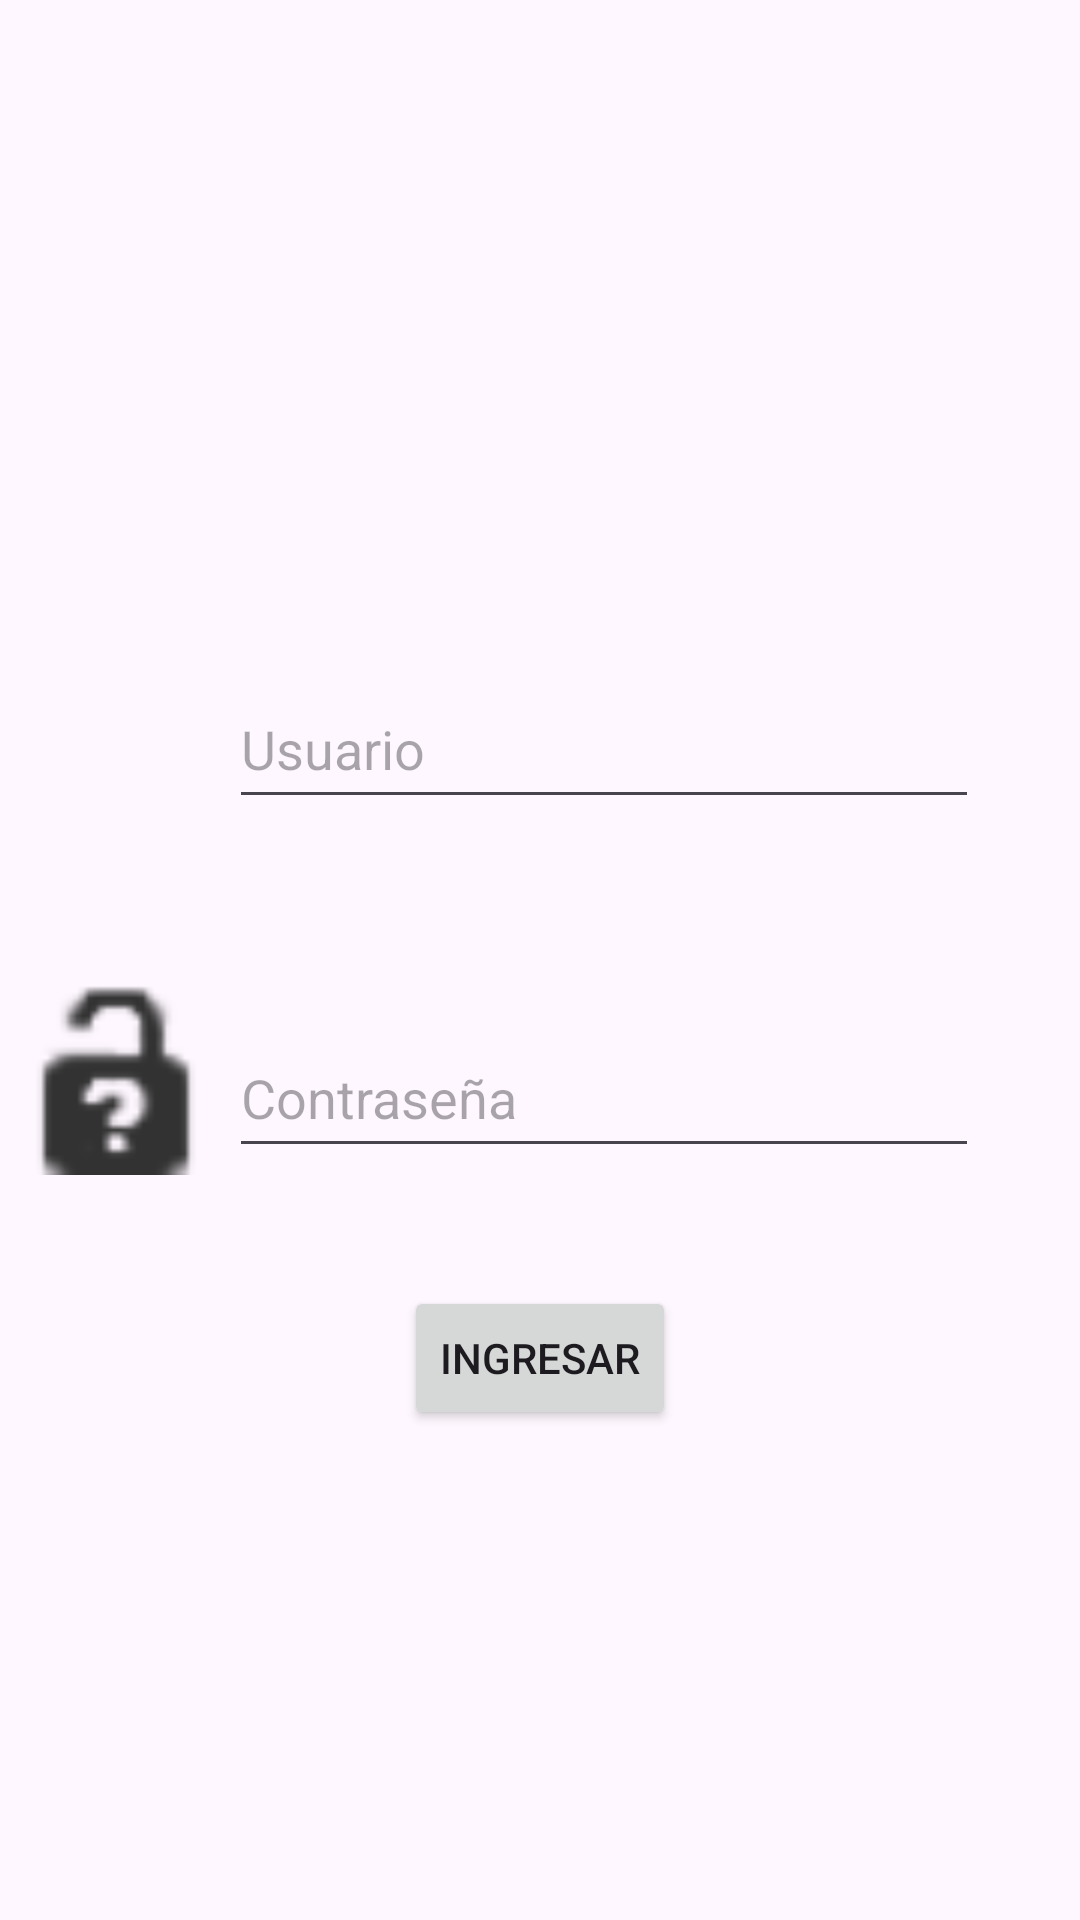

Locate icon controls on the screen. Image size 1080 x 1920, boxes as (x1, y1, x2, y2).
An password icon: (41, 987, 191, 1175)
